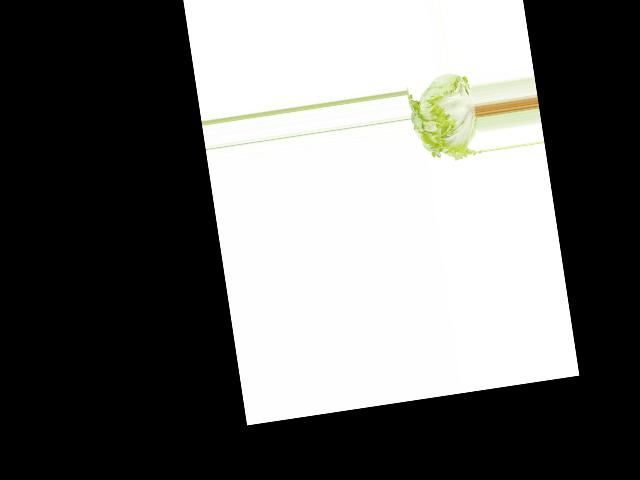lettuce: (405, 68, 483, 169)
